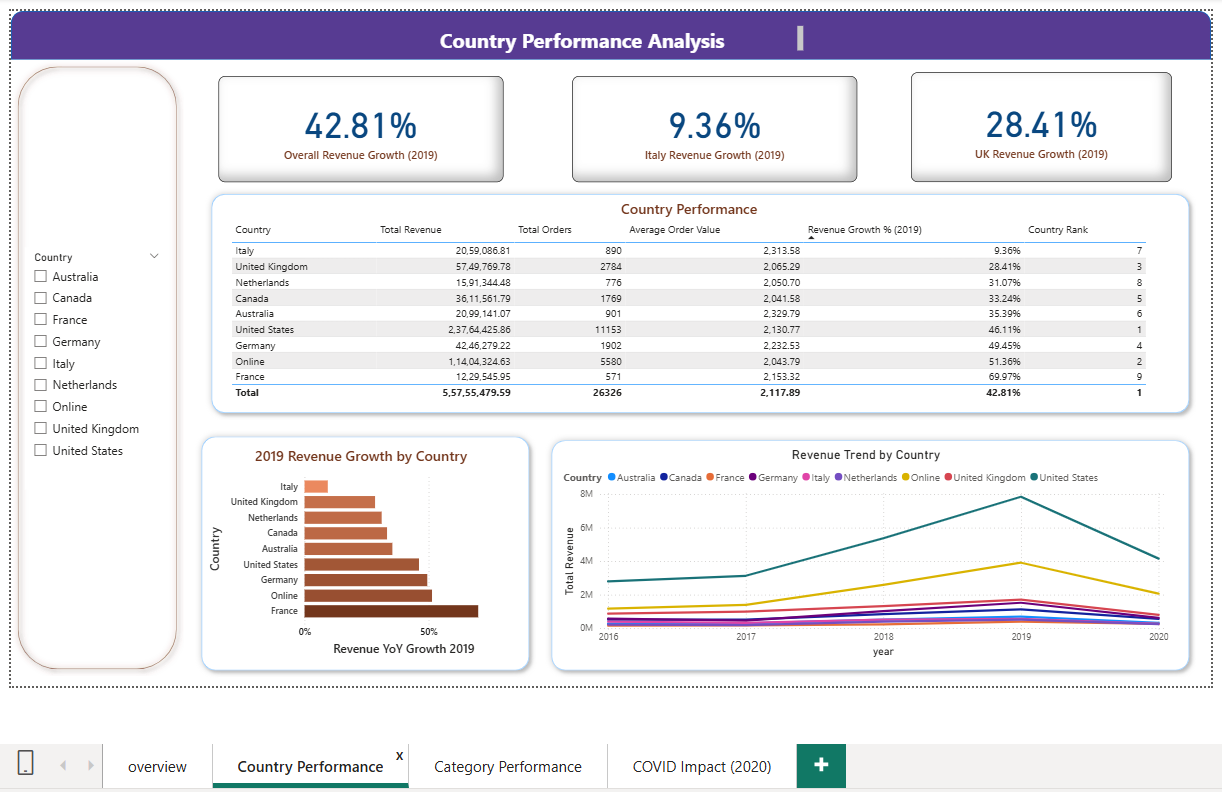

The page's visual inventory and layout, read from the dashboard file:
{"tool":"powerbi","page":{"name":"Country Performance","canvas":[1600,900],"ordinal":1},"visuals":[{"type":"card","fields":{"Values":["_measures.Overall YoY 2019"]},"box":[276.7,86.7,380,141.7],"z":0},{"type":"shape","box":[0,0,1600,65],"z":1000},{"type":"textbox","box":[470,14.3,591.4,51.4],"z":2000},{"type":"shape","box":[258.3,235,1321.7,310],"z":3000},{"type":"shape","box":[245,558.3,455,330],"z":4000},{"type":"shape","box":[711.7,563.3,868.3,325],"z":5000},{"type":"tableEx","title":"Country Performance","fields":{"Values":["Stores.Country","_measures.Total Revenue","_measures.Total Orders","_measures.Average Order Value","_measures.Overall YoY 2019","_measures.Country Rank"]},"box":[288.3,250,1231.7,278.3],"z":6000},{"type":"card","fields":{"Values":["_measures.Overall YoY 2019"]},"box":[748.3,86.7,380,141.7],"z":7000},{"type":"card","fields":{"Values":["_measures.Overall YoY 2019"]},"box":[1200,81.7,348.3,146.7],"z":8000},{"type":"clusteredBarChart","title":"2019 Revenue Growth by Country","fields":{"Category":["Stores.Country"],"Y":["_measures.Overall YoY 2019"]},"box":[260,580,413.3,285],"z":9000},{"type":"lineChart","title":"Revenue Trend by Country","fields":{"Y":["_measures.Total Revenue"],"Category":["Calendar.year"],"Series":["Stores.Country"]},"box":[731.7,581.7,816.7,285],"z":10000},{"type":"shape","box":[0,65,230,821.7],"z":11001},{"type":"slicer","fields":{"Values":["Stores.Country"]},"box":[18.3,315,191.7,323.3],"z":11501}]}

Visuals, with their boxes on the page's 1600x900 design canvas (x1, y1, x2, y2). These are canvas units, not pixel positions in the 1222x792 screenshot, which may show the page scaled, cropped or inside an application window:
card - _measures.Overall YoY 2019: locate(277, 87, 657, 228)
shape: locate(0, 0, 1600, 65)
textbox: locate(470, 14, 1061, 66)
shape: locate(258, 235, 1580, 545)
shape: locate(245, 558, 700, 888)
shape: locate(712, 563, 1580, 888)
"Country Performance" tableEx: locate(288, 250, 1520, 528)
card - _measures.Overall YoY 2019: locate(748, 87, 1128, 228)
card - _measures.Overall YoY 2019: locate(1200, 82, 1548, 228)
"2019 Revenue Growth by Country" clusteredBarChart: locate(260, 580, 673, 865)
"Revenue Trend by Country" lineChart: locate(732, 582, 1548, 867)
shape: locate(0, 65, 230, 887)
slicer - Stores.Country: locate(18, 315, 210, 638)
